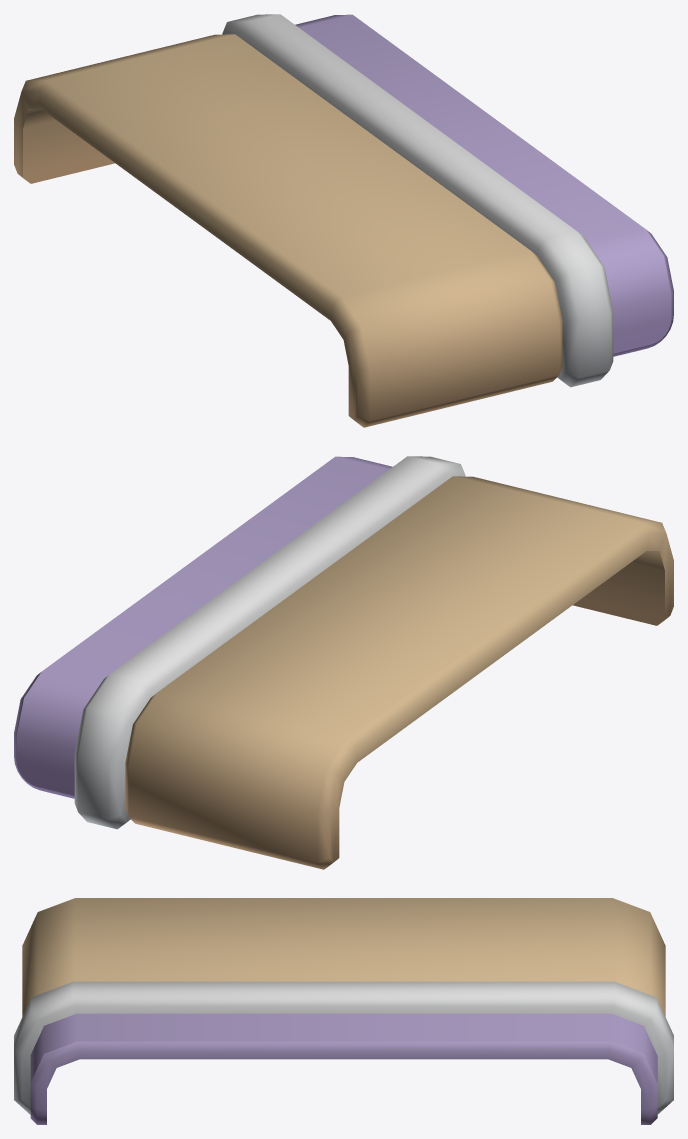
The model's file is cover-duvet-fold-double.glb.
3 renders of one model, top to bottom at view 1: azimuth 30°, elevation 25°; view 2: azimuth 150°, elevation 25°; view 3: azimuth 270°, elevation 25°, orthographic. The views are drawn at different scales.
Visible parts, largest first — view 1: cover-duvet-fold-double; view 2: cover-duvet-fold-double; view 3: cover-duvet-fold-double.
Boxes of the visible parts, x1,y1,x2,y2 form: cover-duvet-fold-double: [14, 14, 673, 427]; cover-duvet-fold-double: [14, 456, 673, 869]; cover-duvet-fold-double: [14, 898, 673, 1124].
Bounding box in the file's own units: 1.02 × 0.4 × 2.
